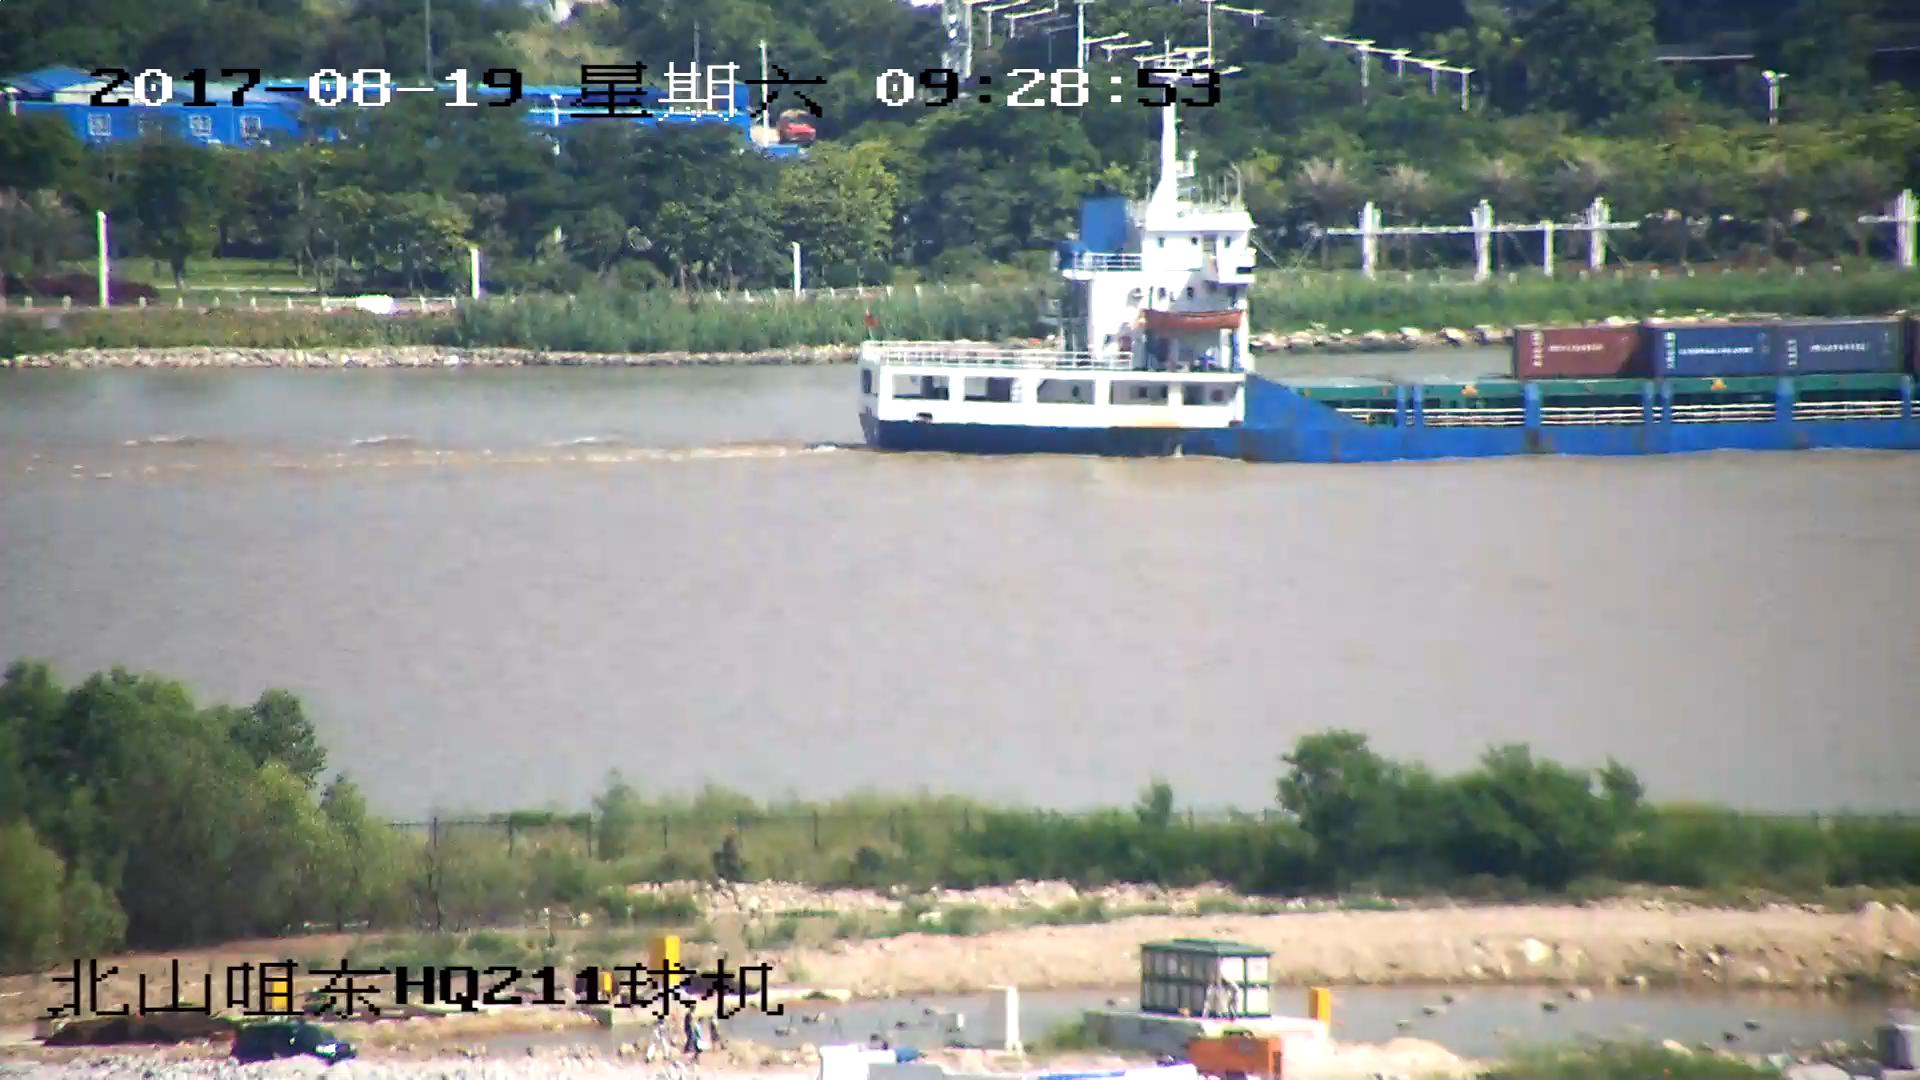general cargo ship: (857, 116, 1920, 465)
